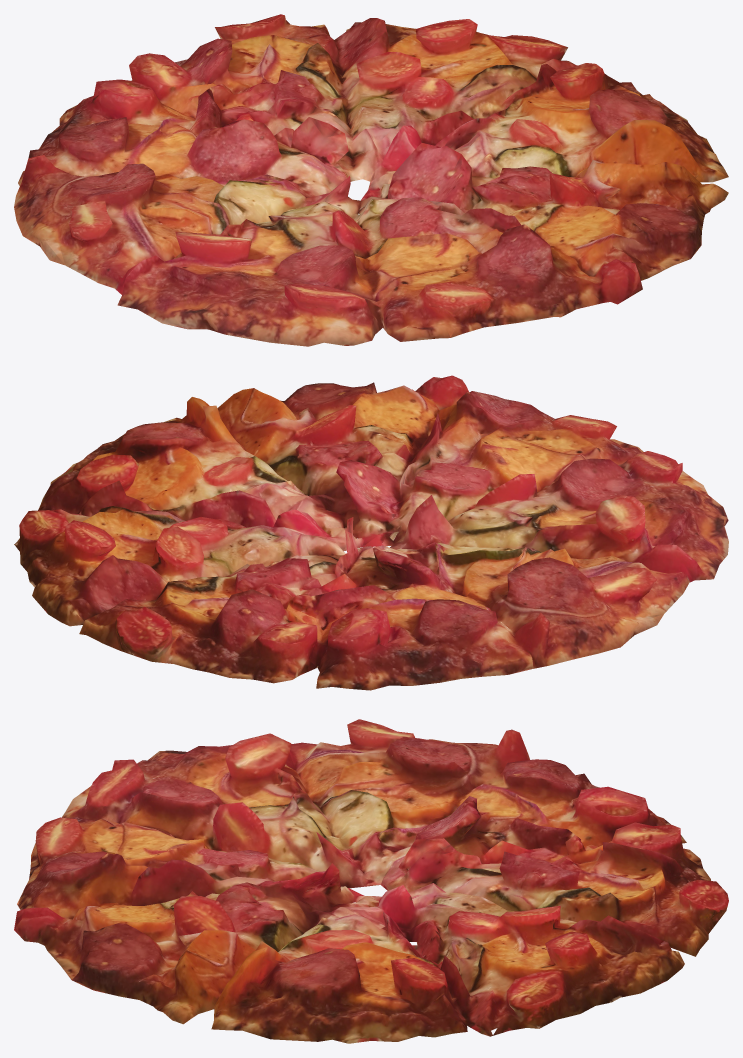
File: meat_1.glb
3 renders of one model, top to bottom at view 1: azimuth 30°, elevation 25°; view 2: azimuth 150°, elevation 25°; view 3: azimuth 270°, elevation 25°, orthographic. The views are drawn at different scales.
Visible parts, largest first — view 1: Material2.014; view 2: Material2.014; view 3: Material2.014.
Part boxes in pixels (box(x1,y1,x2,y2)): Material2.014: box(14, 14, 728, 346); Material2.014: box(14, 375, 728, 690); Material2.014: box(14, 719, 728, 1043).
Size of the model in its own units: 1.17 by 0.1057 by 1.19.
Materials: 1 (1 with a texture image).
